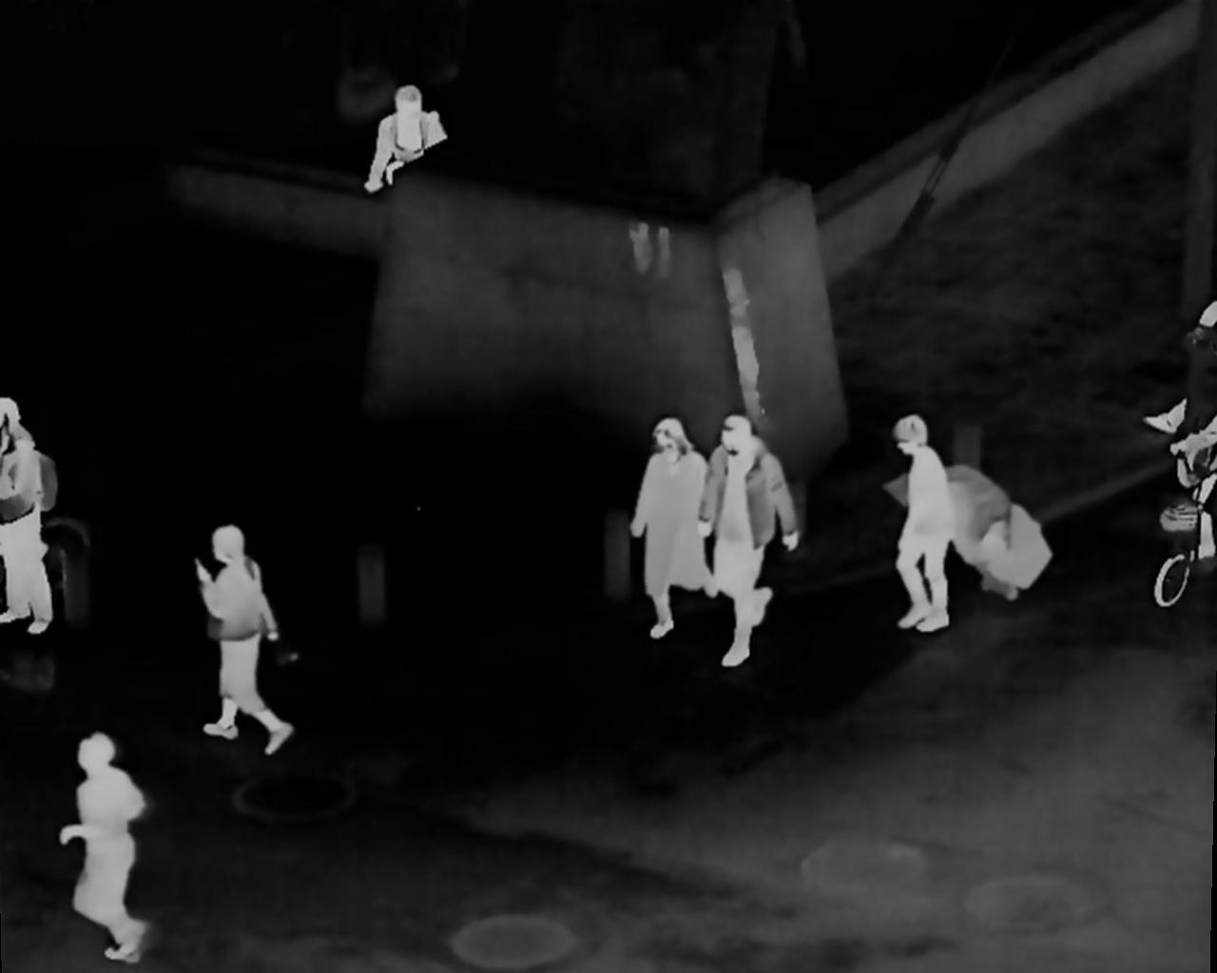person: (699, 413, 797, 668), (626, 420, 723, 649), (191, 531, 288, 753), (68, 735, 153, 963), (885, 410, 955, 630), (360, 84, 454, 199)
